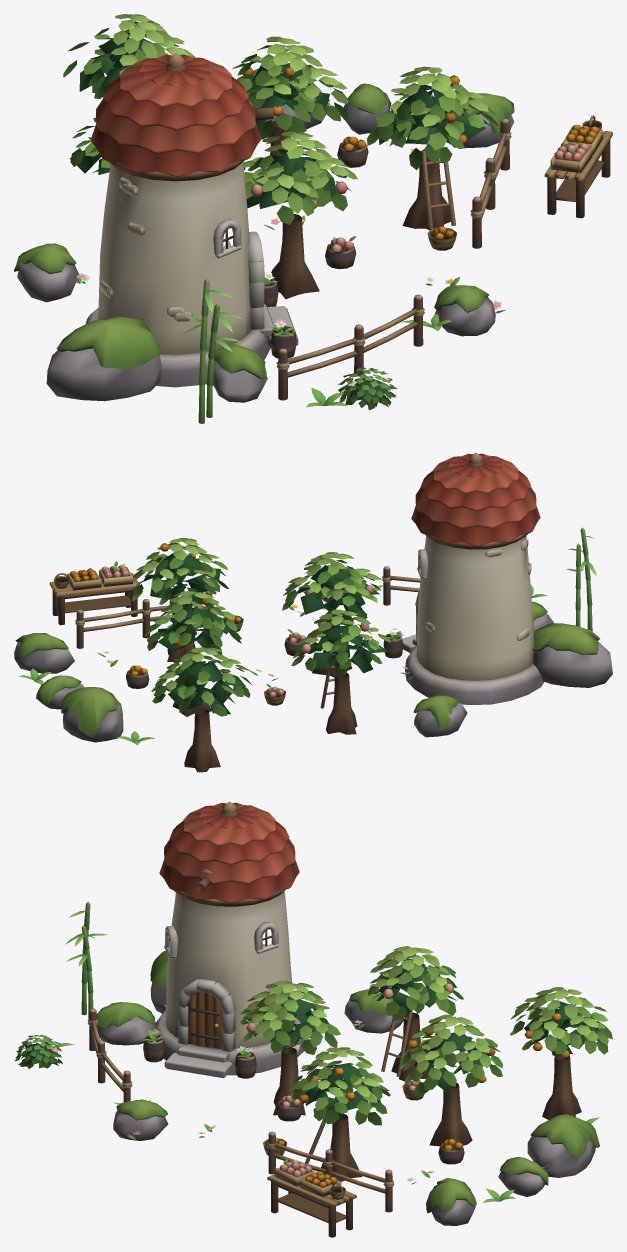
The model's file is poi-windmill-0.glb.
3 views of the same model, one above another, from view 1: azimuth 30°, elevation 25°; view 2: azimuth 150°, elevation 25°; view 3: azimuth 270°, elevation 25° (orthographic). The views are drawn at different scales.
Visible parts, largest first — view 1: body, leaf; view 2: body, leaf; view 3: body, leaf.
Part boxes in pixels (left/top/right/bottom): body: left=14, top=29, right=612, bottom=423; leaf: left=63, top=14, right=506, bottom=410; body: left=14, top=452, right=612, bottom=772; leaf: left=18, top=530, right=596, bottom=745; body: left=81, top=801, right=599, bottom=1237; leaf: left=14, top=910, right=612, bottom=1202.
Size of the model in its own units: 13.28 by 5.88 by 12.8.
